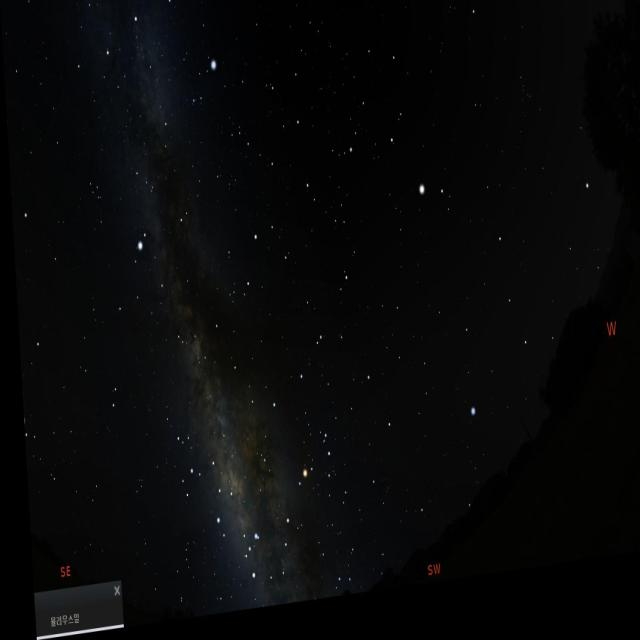aquila: (109, 198, 205, 377)
bootes: (358, 5, 458, 252)
cygnus: (100, 0, 179, 170)
lyra: (181, 56, 223, 122)
sagittarius: (145, 404, 233, 561)
scorpius: (230, 429, 342, 596)
